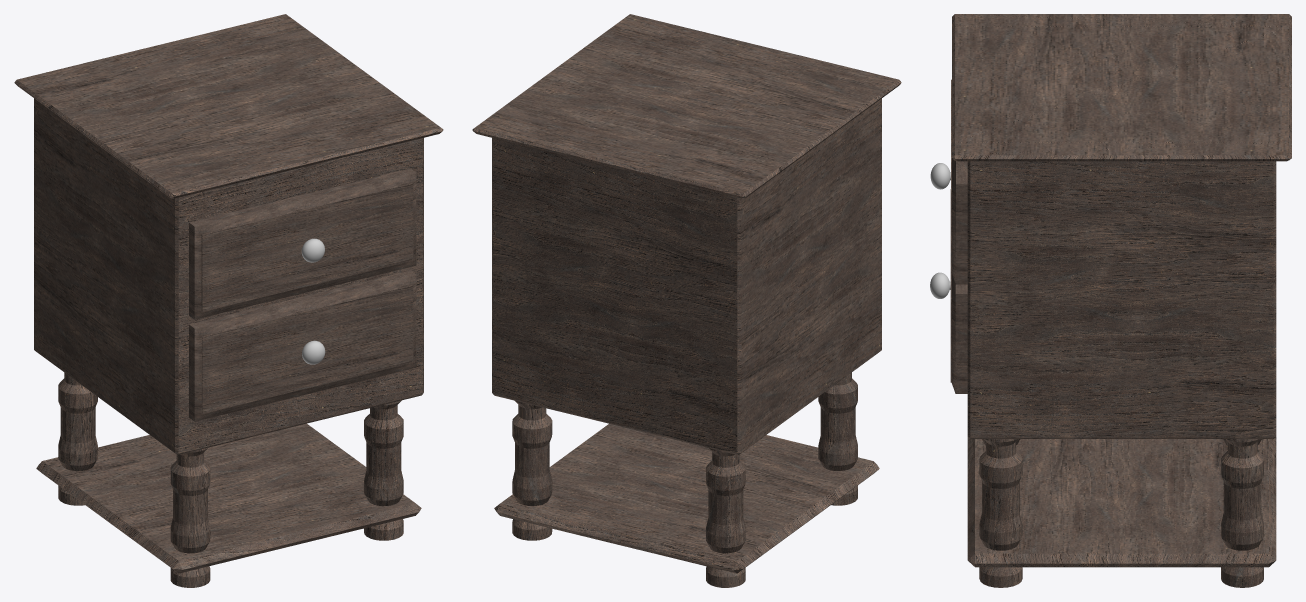
The model's file is mesinhacabeceira.fbx.
3 renders of one model, left to right at view 1: azimuth 30°, elevation 25°; view 2: azimuth 150°, elevation 25°; view 3: azimuth 270°, elevation 25°, orthographic. The views are drawn at different scales.
Visible parts, largest first — view 1: pCube1, pCube5, pCube8, pCube7, pCylinder3, pCylinder4, pCylinder1; view 2: pCube1, pCube5, pCylinder1, pCylinder2, pCylinder3; view 3: pCube1, pCube5, pCylinder4, pCylinder2, pCube7, pCube8.
Part boxes in pixels (<box>): pCube1: <box>14,14,443,454</box>; pCube5: <box>36,423,421,573</box>; pCube8: <box>189,270,416,421</box>; pCube7: <box>189,168,416,319</box>; pCylinder3: <box>170,447,210,587</box>; pCylinder4: <box>364,400,403,540</box>; pCylinder1: <box>58,372,97,505</box>; pCube1: <box>472,14,901,455</box>; pCube5: <box>494,423,879,573</box>; pCylinder1: <box>706,448,745,587</box>; pCylinder2: <box>512,401,552,540</box>; pCylinder3: <box>818,372,857,505</box>; pCube1: <box>952,14,1291,438</box>; pCube5: <box>967,437,1276,567</box>; pCylinder4: <box>979,439,1022,587</box>; pCylinder2: <box>1221,439,1263,587</box>; pCube7: <box>951,79,967,284</box>; pCube8: <box>950,189,967,393</box>.
Size of the model in its own units: 1.1 by 1.58 by 1.17.
